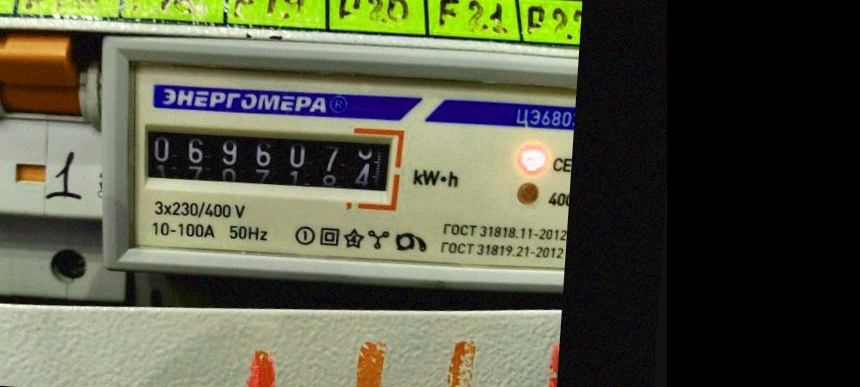0: (286, 138, 306, 169), (151, 133, 170, 162)
4: (352, 158, 371, 188)
6: (253, 137, 272, 167), (185, 134, 204, 163)
7: (320, 141, 341, 174)
9: (218, 137, 238, 166)
screen: (127, 108, 409, 210)
